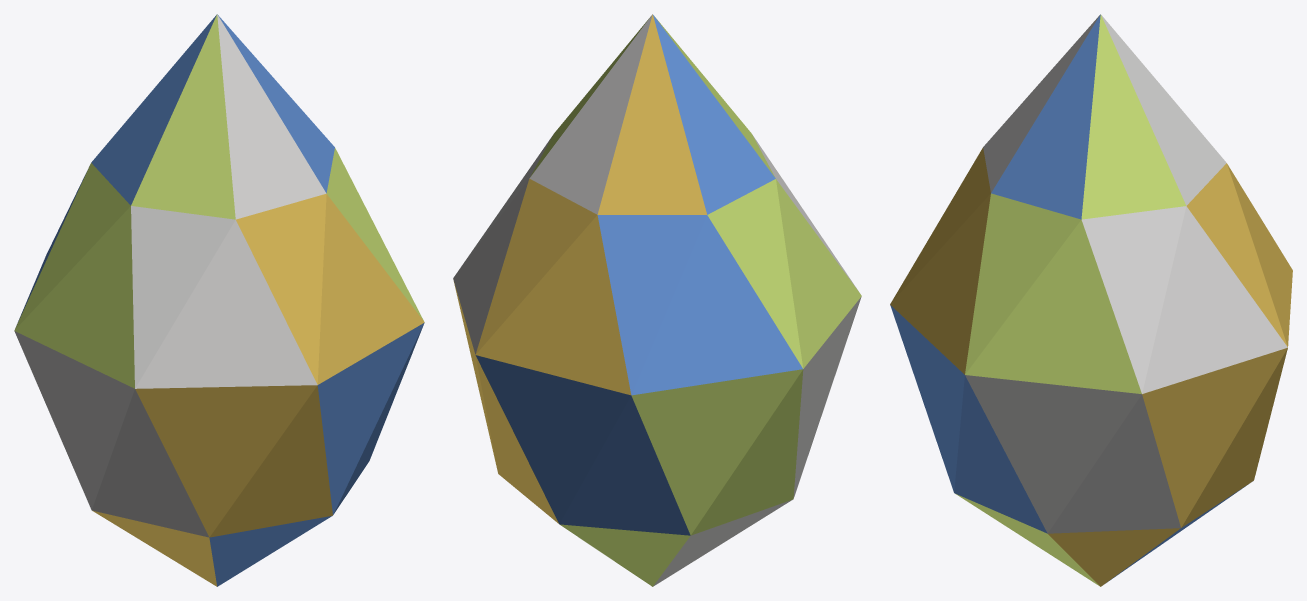
Rendered from demo-crystal.glb.
3 views of the same model, side by side, from view 1: azimuth 30°, elevation 25°; view 2: azimuth 150°, elevation 25°; view 3: azimuth 270°, elevation 25° (orthographic).
Visible parts, largest first — view 1: CristalDemo; view 2: CristalDemo; view 3: CristalDemo.
Part boxes in pixels (x1,y1,x2,y2): CristalDemo: (14,14,424,586); CristalDemo: (453,14,861,586); CristalDemo: (890,14,1292,586).
Bounding box in the file's own units: 1.46 × 2.25 × 1.43.
